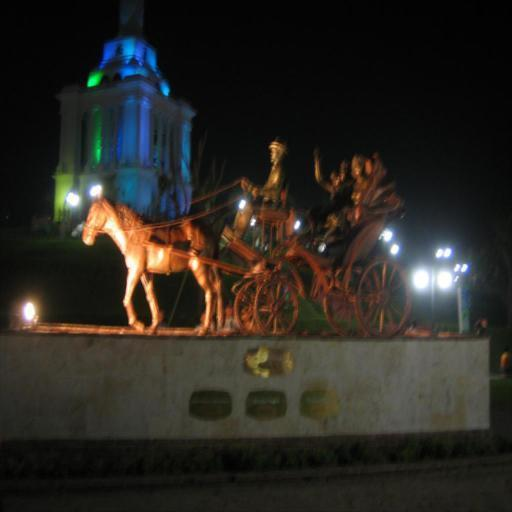horse: (83, 191, 225, 337)
